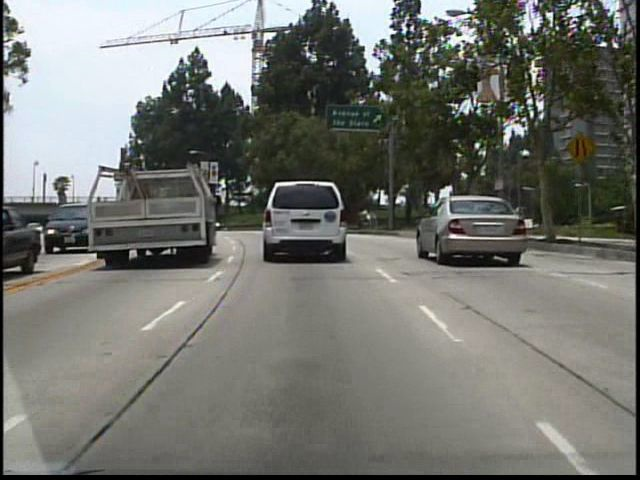person: (465, 193, 484, 240)
